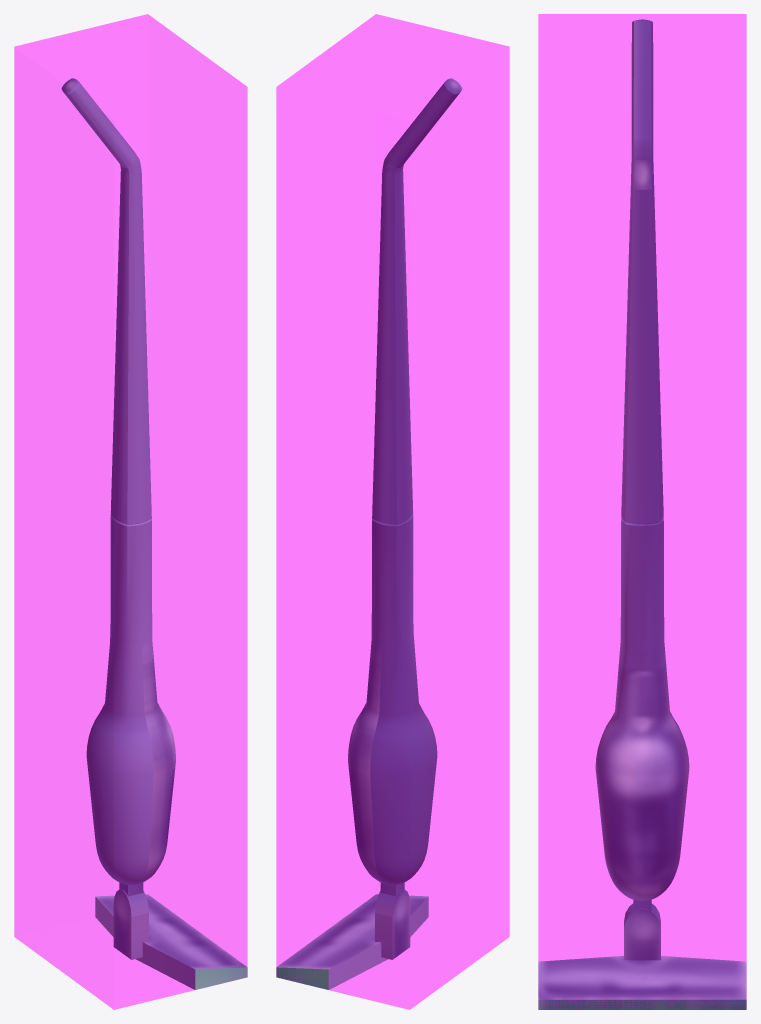
Rendered from cleaner.fbx.
3 views of the same model, side by side, from view 1: azimuth 30°, elevation 25°; view 2: azimuth 150°, elevation 25°; view 3: azimuth 270°, elevation 25° (orthographic). The views are drawn at different scales.
Visible parts, largest first — view 1: boundingbox, vacume_cleaner; view 2: boundingbox, vacume_cleaner; view 3: boundingbox, vacume_cleaner.
Boxes of the visible parts, bbox=[...] form: boundingbox: bbox=[14, 14, 247, 1009]; vacume_cleaner: bbox=[61, 78, 247, 989]; boundingbox: bbox=[276, 14, 509, 1009]; vacume_cleaner: bbox=[276, 78, 462, 989]; boundingbox: bbox=[538, 14, 746, 1008]; vacume_cleaner: bbox=[538, 19, 746, 1009].
Bounding box in the file's own units: 23.94 × 152 × 30.95.
Materials: 2 (1 with a texture image).
